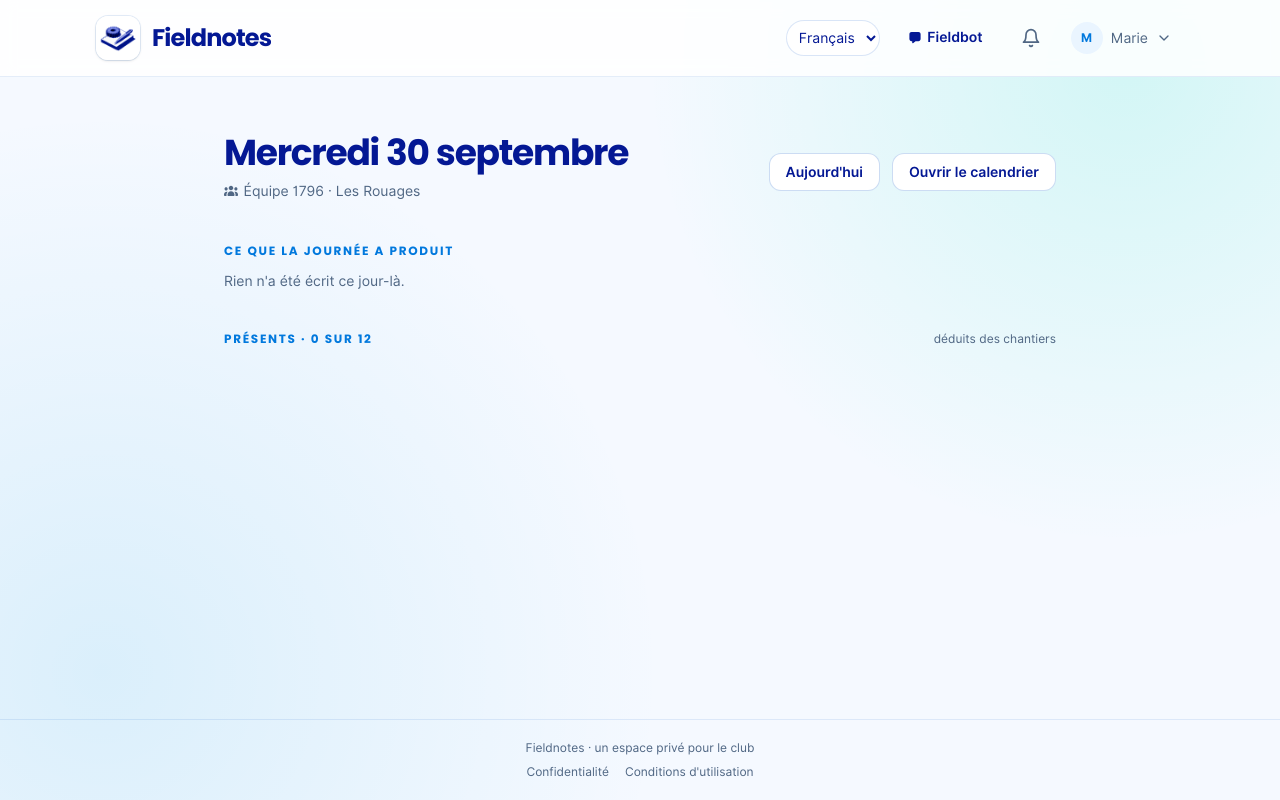
Test case: opens an empty date from the calendar and closes the picker
Step 1. Click the button "Ouvrir le calendrier" → (974, 172), box x1=892 y1=153 x2=1056 y2=191
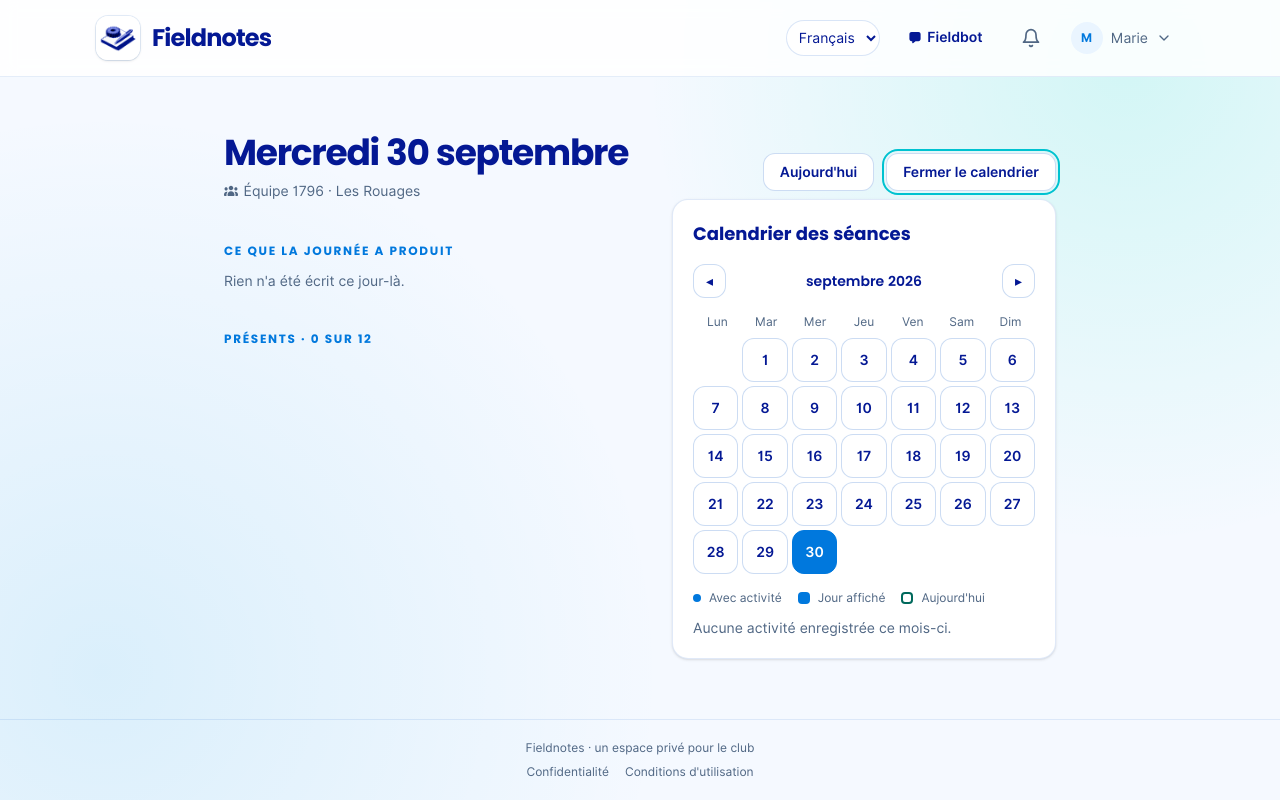
Step 2. Click the link named "lundi 28 septembre, Sans activité" → (716, 552), box x1=693 y1=530 x2=738 y2=574
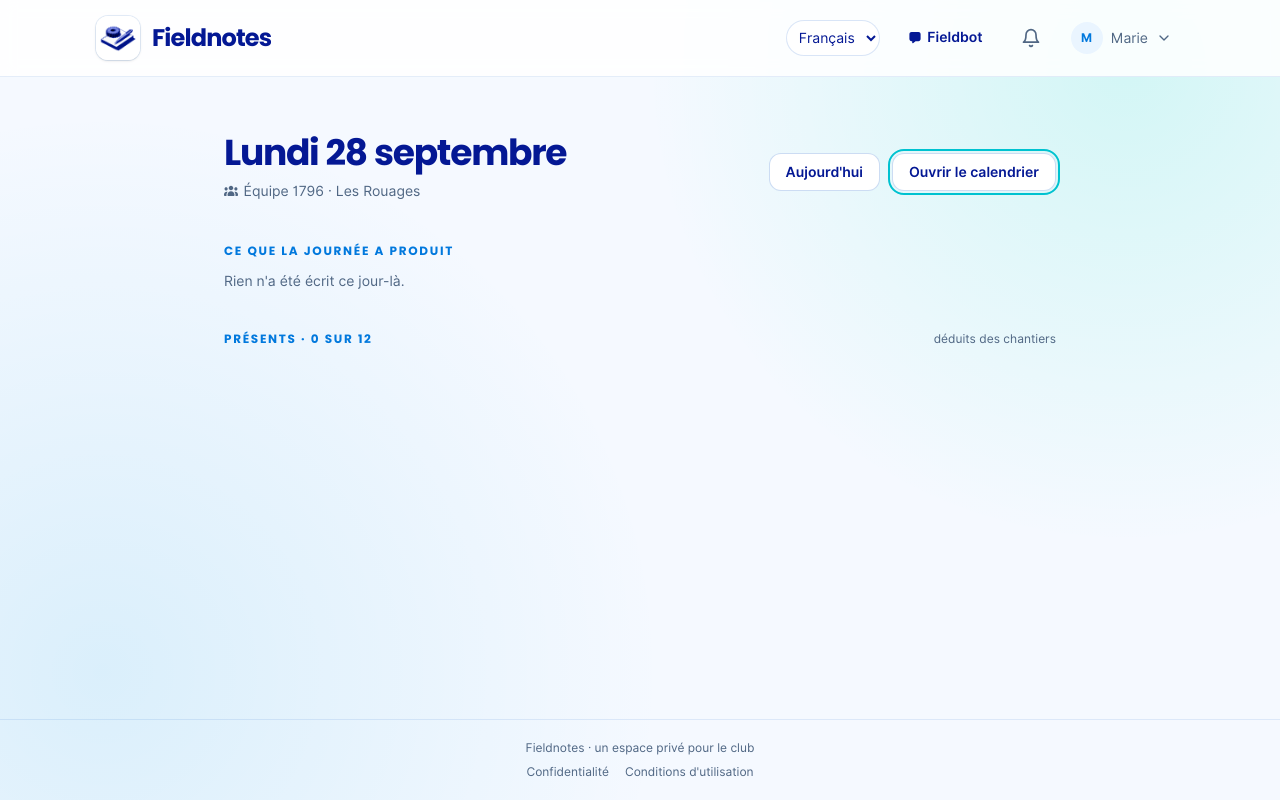
Expected: the text "Rien n'a été écrit ce jour-là." is shown, x1=224 y1=273 x2=404 y2=289
Expected: the heading "Lundi 28 septembre" is shown, x1=224 y1=133 x2=566 y2=173
Expected: the heading "Calendrier des séances" is gone
